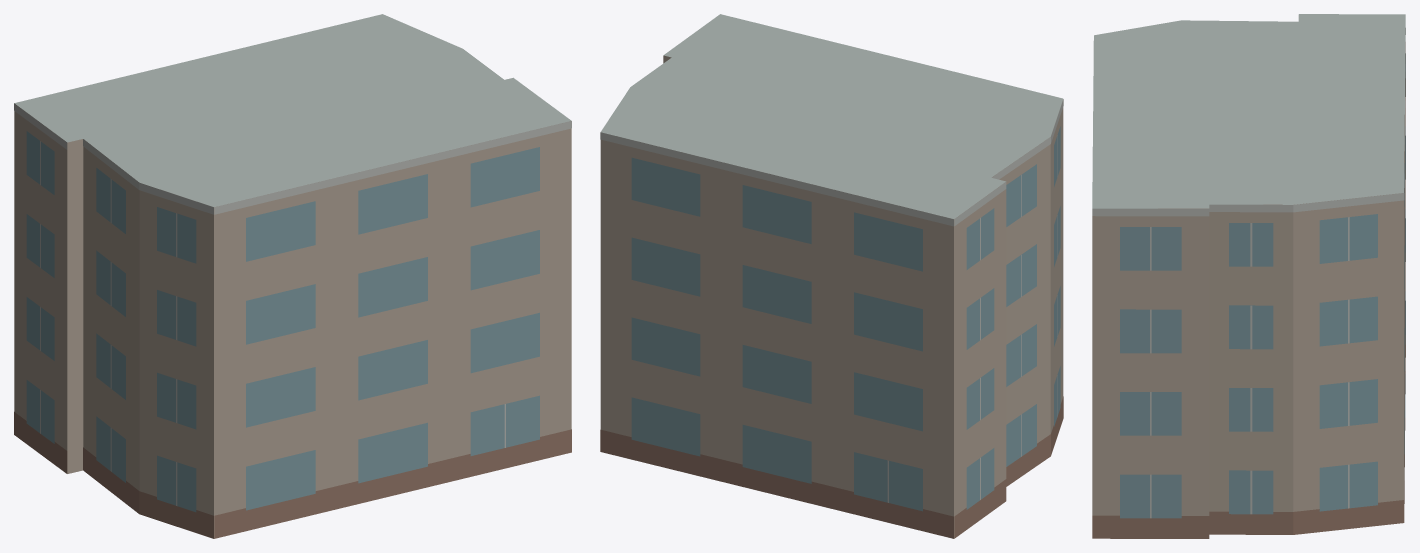
Rendered from survey-upis-32499277.glb.
The picture shows the model from 3 angles, left to right: view 1: azimuth 30°, elevation 25°; view 2: azimuth 150°, elevation 25°; view 3: azimuth 270°, elevation 25°; orthographic projection. The views are drawn at different scales.
Visible parts, largest first — view 1: survey-upis-32499277.tmp; view 2: survey-upis-32499277.tmp; view 3: survey-upis-32499277.tmp.
Part boxes in pixels (x1,y1,x2,y2): survey-upis-32499277.tmp: (14,14,571,538); survey-upis-32499277.tmp: (600,14,1063,538); survey-upis-32499277.tmp: (1092,14,1405,538).
Size of the model in its own units: 13.49 by 10.65 by 9.18.
